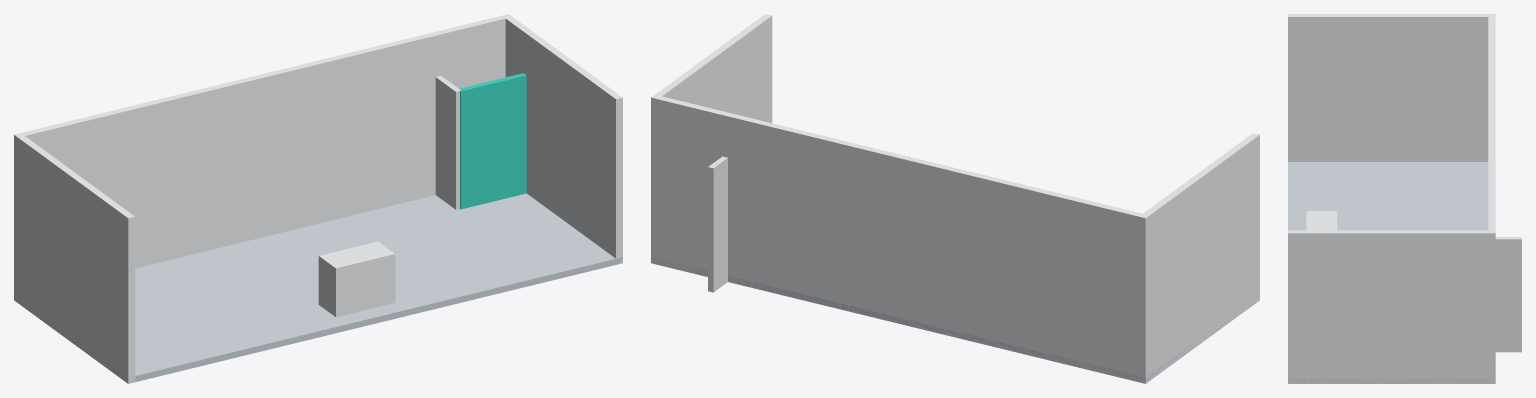
3 views of the same model, side by side, from view 1: azimuth 30°, elevation 25°; view 2: azimuth 150°, elevation 25°; view 3: azimuth 270°, elevation 25° (orthographic). The views are drawn at different scales.
Visible parts, largest first — view 1: Exhibition Booth Concept; view 2: Exhibition Booth Concept; view 3: Exhibition Booth Concept.
Part boxes in pixels (x1,y1,x2,y2): Exhibition Booth Concept: (14,14,622,383); Exhibition Booth Concept: (651,14,1259,383); Exhibition Booth Concept: (1288,14,1521,383).
Size of the model in its own units: 10 by 3.2 by 4.51.
